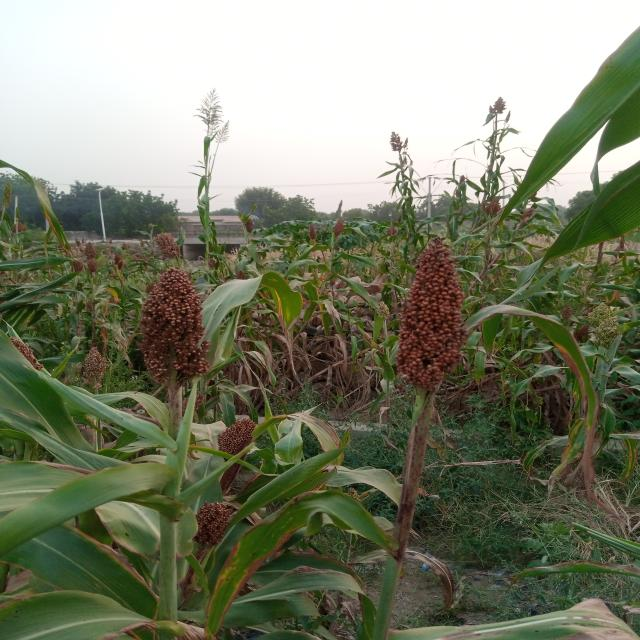RipeSorghum: (389, 236, 489, 404), (117, 256, 226, 398)
